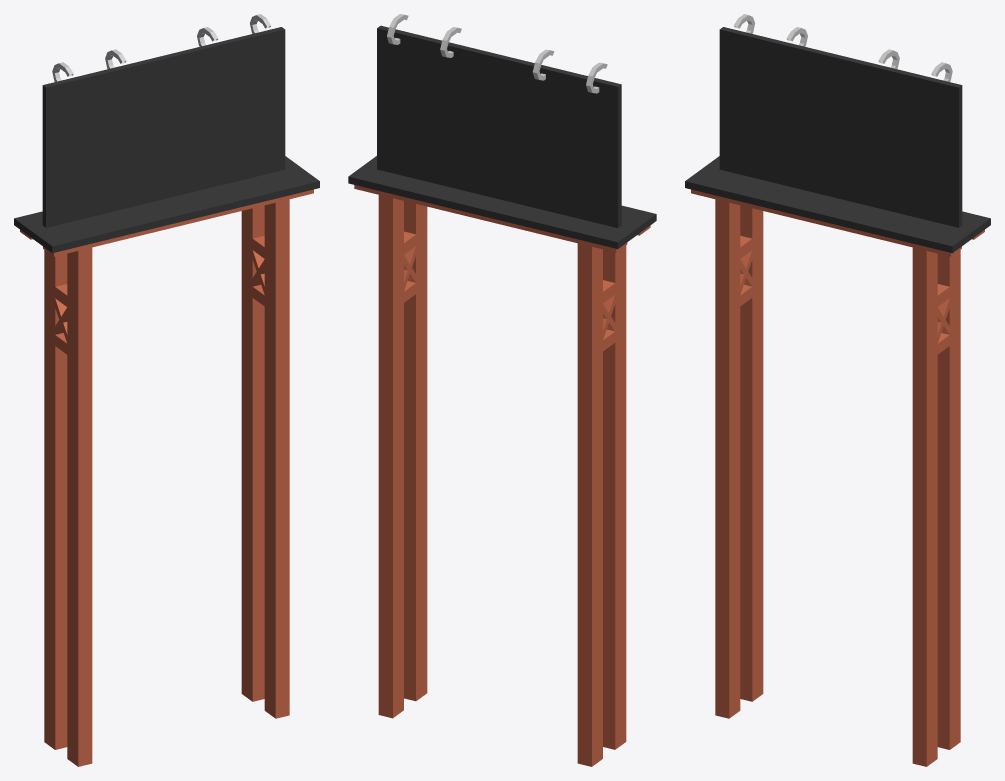
Rendered from BillboardSign_Stand.fbx.
The picture shows the model from 3 angles, left to right: view 1: azimuth 30°, elevation 25°; view 2: azimuth 150°, elevation 25°; view 3: azimuth 330°, elevation 25°; orthographic projection.
Visible parts, largest first — view 1: Cube.002; view 2: Cube.002; view 3: Cube.002.
Boxes of the visible parts, box(x1,y1,x2,y2) form: Cube.002: box(14, 14, 319, 766); Cube.002: box(348, 14, 656, 766); Cube.002: box(685, 14, 990, 766).
Bounding box in the file's own units: 1742 × 4262 × 433.
